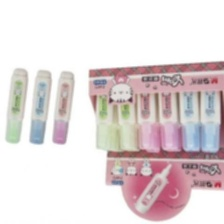book: (85, 57, 224, 222)
correction_fluid: (26, 67, 54, 145), (3, 67, 30, 144), (156, 69, 181, 151), (197, 68, 221, 153), (114, 75, 140, 152), (178, 69, 202, 152), (51, 69, 77, 145), (134, 74, 158, 151), (95, 76, 114, 152)
